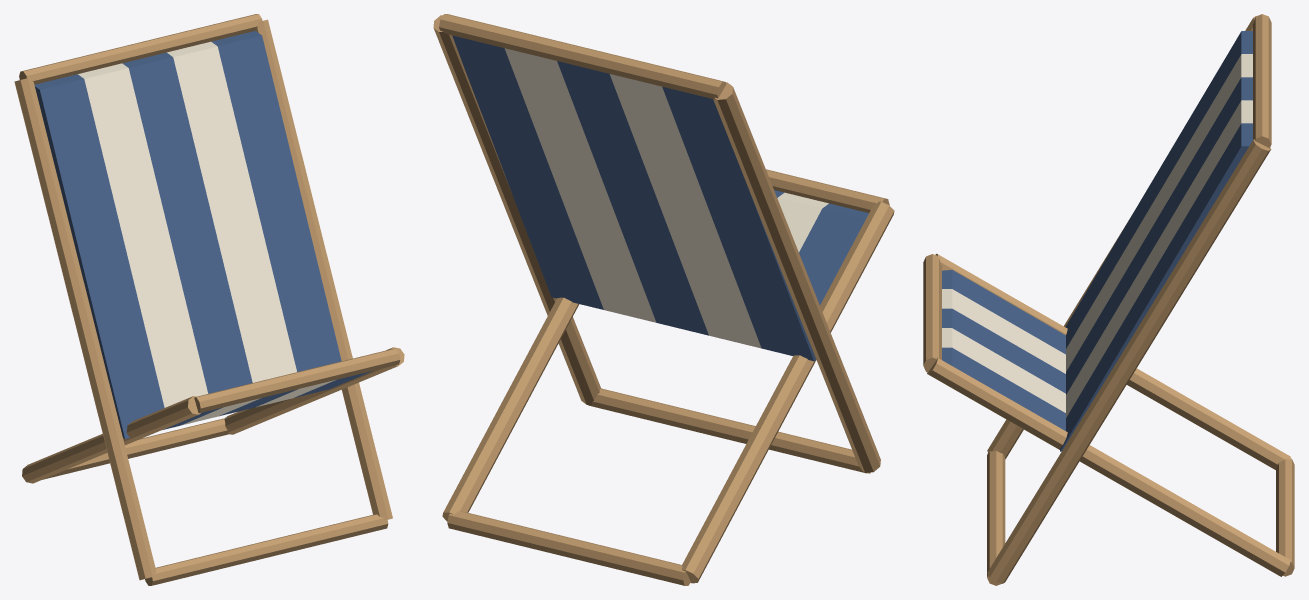
The model's file is FN_Chair_Deck.obj.
The picture shows the model from 3 angles, left to right: view 1: azimuth 30°, elevation 25°; view 2: azimuth 150°, elevation 25°; view 3: azimuth 270°, elevation 25°; orthographic projection. The views are drawn at different scales.
Parts seen in each view (by area): view 1: FN_Chair_Deck; view 2: FN_Chair_Deck; view 3: FN_Chair_Deck.
Boxes of the visible parts, x1,y1,x2,y2 form: FN_Chair_Deck: (14, 14, 404, 585); FN_Chair_Deck: (433, 14, 894, 585); FN_Chair_Deck: (923, 14, 1294, 585).
Bounding box in the file's own units: 0.536 × 0.858 × 0.642.
Materials: 1 (1 with a texture image).
